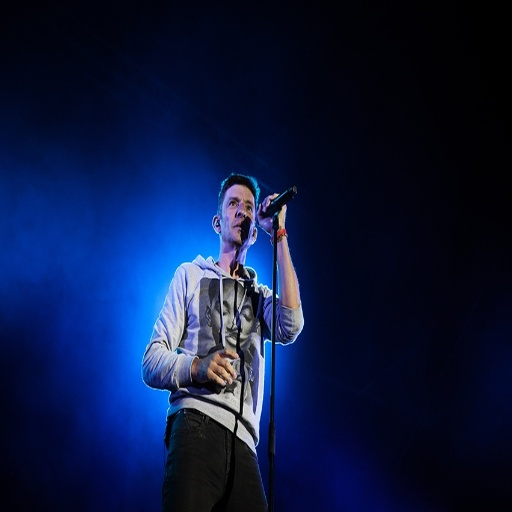hand: (201, 349, 238, 409), (253, 191, 287, 237)
